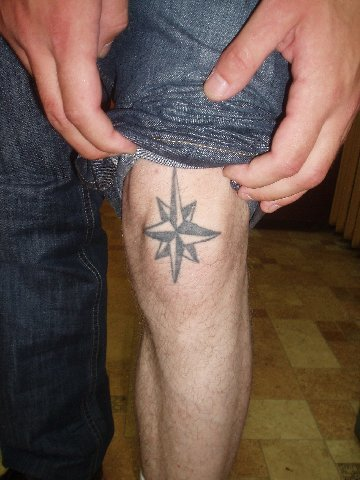tatu4_zvezda: (143, 167, 223, 286)
